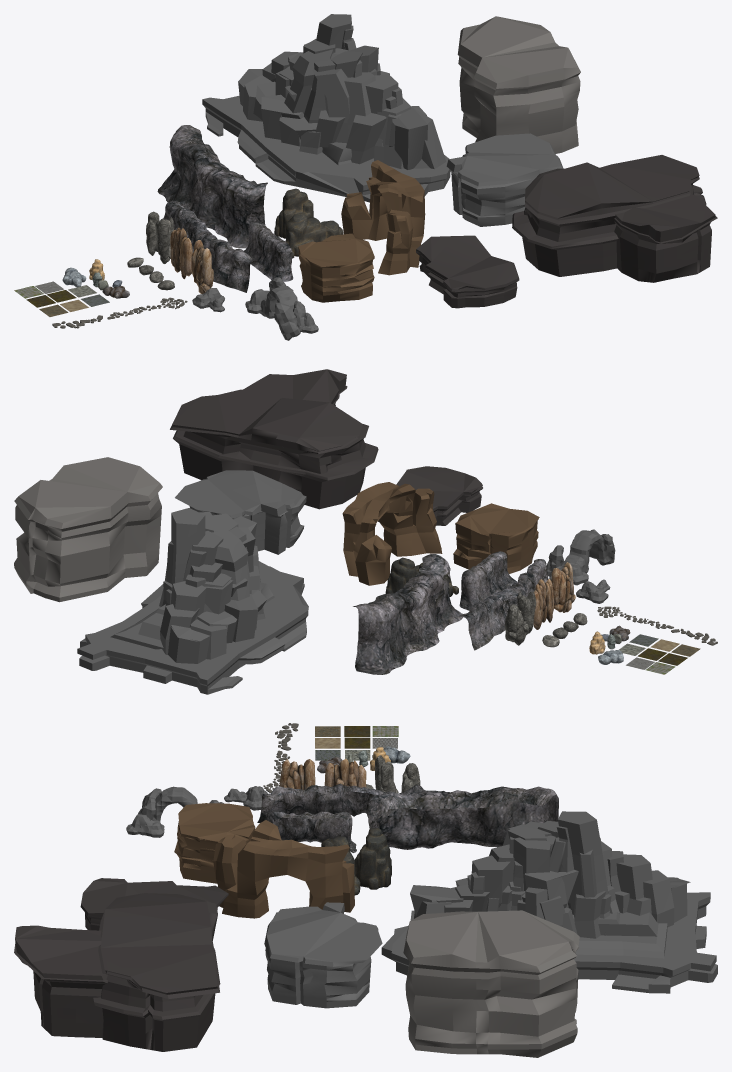
File: terrain_and_rocks.fbx
3 renders of one model, top to bottom at view 1: azimuth 30°, elevation 25°; view 2: azimuth 150°, elevation 25°; view 3: azimuth 270°, elevation 25°, orthographic. The views are drawn at different scales.
Parts seen in each view (by area): view 1: combined_assets_1.002, combined_assets_1.005, combined_assets_1.010, combined_assets_1.006, Cliff02LP, combined_assets_1.003, combined_assets_1.009, combined_assets_1.008, Cliff03LP, combined_assets_1.001, Cliff01LP, cliff2 (+6 smaller); view 2: combined_assets_1.002, combined_assets_1.005, combined_assets_1.010, Cliff02LP, combined_assets_1.003, combined_assets_1.006, combined_assets_1.008, combined_assets_1.009, Cliff03LP, combined_assets_1.001, Cliff01LP, RockForm03_LP (+6 smaller); view 3: combined_assets_1.002, combined_assets_1.005, combined_assets_1.010, combined_assets_1.006, Cliff02LP, combined_assets_1.003, combined_assets_1.008, Cliff03LP, combined_assets_1.009, Cliff01LP, combined_assets_1.001, cliff3 (+5 smaller).
Boxes of the visible parts, x1,y1,x2,y2 form: combined_assets_1.002: (202, 14, 450, 202); combined_assets_1.005: (512, 155, 717, 282); combined_assets_1.010: (457, 16, 580, 153); combined_assets_1.006: (446, 133, 563, 226); Cliff02LP: (157, 125, 267, 248); combined_assets_1.003: (341, 160, 425, 275); combined_assets_1.009: (416, 235, 519, 308); combined_assets_1.008: (298, 233, 374, 302); Cliff03LP: (163, 201, 255, 292); combined_assets_1.001: (245, 277, 318, 340); Cliff01LP: (244, 222, 293, 282); cliff2: (285, 213, 343, 258); combined_assets_1.002: (77, 508, 308, 694); combined_assets_1.005: (170, 369, 378, 509); combined_assets_1.010: (14, 457, 162, 602); Cliff02LP: (353, 554, 462, 674); combined_assets_1.003: (342, 482, 442, 585); combined_assets_1.006: (175, 470, 306, 554); combined_assets_1.008: (453, 503, 539, 573); combined_assets_1.009: (378, 466, 482, 525); Cliff03LP: (459, 559, 548, 650); combined_assets_1.001: (546, 529, 615, 585); Cliff01LP: (459, 551, 516, 610); RockForm03_LP: (551, 562, 575, 612); combined_assets_1.002: (381, 811, 717, 993); combined_assets_1.005: (14, 893, 220, 1051); combined_assets_1.010: (403, 910, 579, 1057); combined_assets_1.006: (264, 902, 382, 1008); Cliff02LP: (366, 786, 558, 849); combined_assets_1.003: (213, 820, 354, 918); combined_assets_1.008: (174, 803, 255, 883); Cliff03LP: (257, 783, 449, 822); combined_assets_1.009: (80, 878, 228, 930); Cliff01LP: (268, 811, 356, 852); combined_assets_1.001: (126, 786, 223, 837); cliff3: (355, 827, 391, 889).
Bounding box in the file's own units: 3596 × 736 × 3175.
